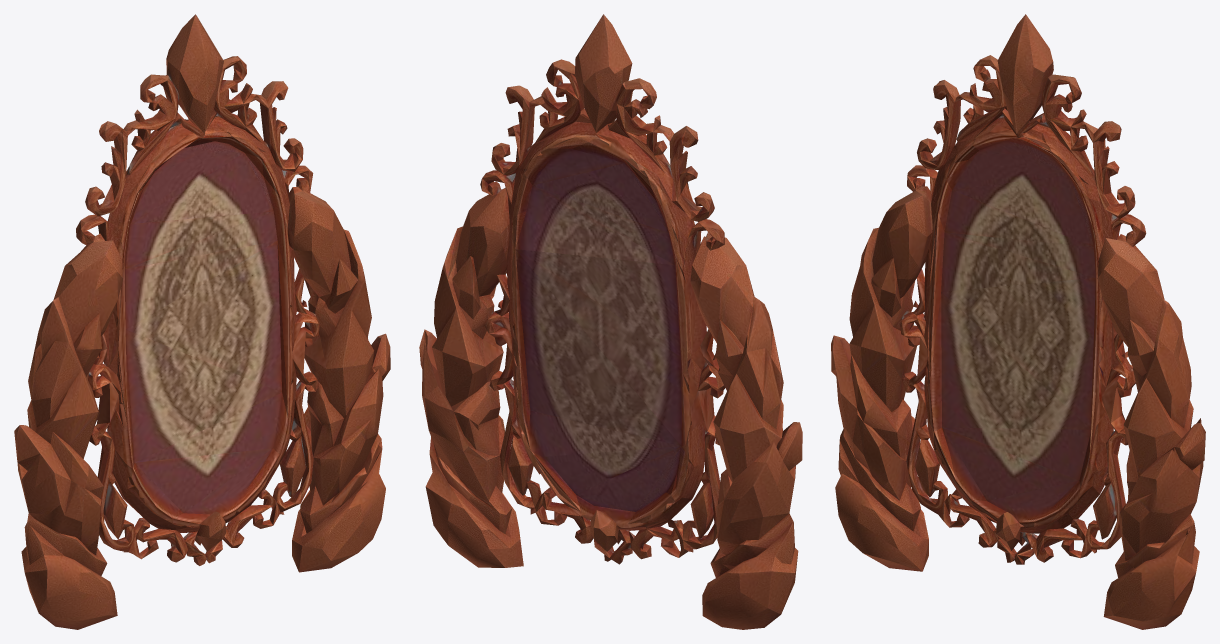
The model's file is cristais_espelho.glb.
3 renders of one model, left to right at view 1: azimuth 30°, elevation 25°; view 2: azimuth 150°, elevation 25°; view 3: azimuth 330°, elevation 25°, orthographic. The views are drawn at different scales.
Size of the model in its own units: 1.29 by 1.9 by 0.2412.
1 material, 1 textured.
